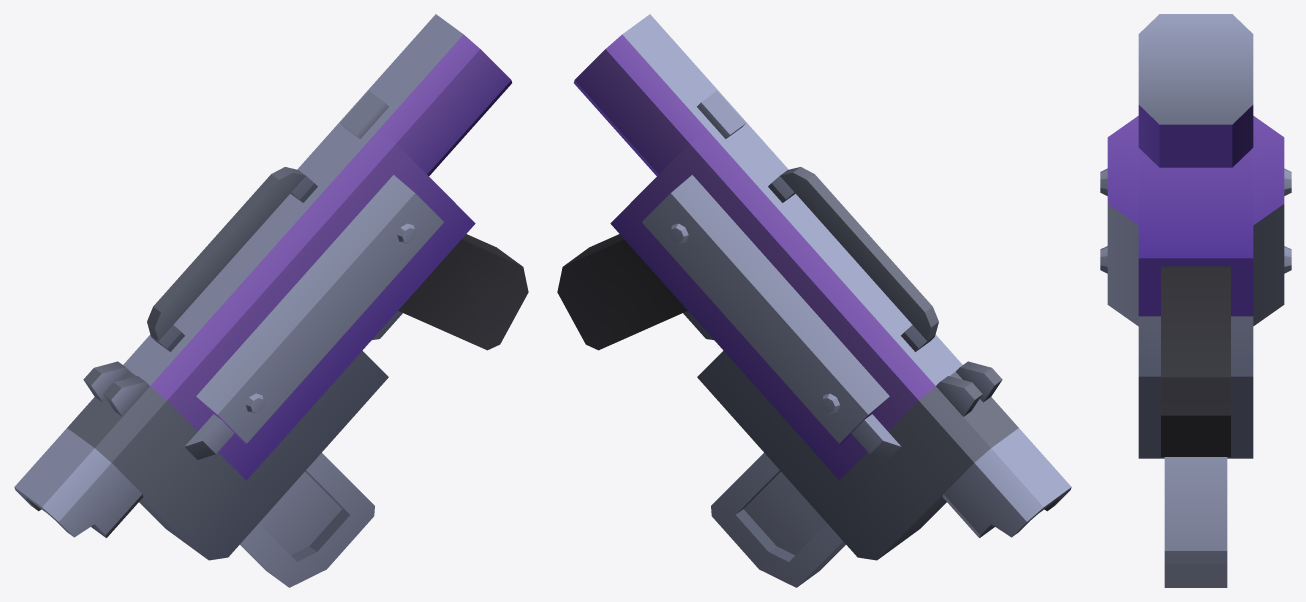
Rendered from blaster-a.glb.
The picture shows the model from 3 angles, left to right: view 1: azimuth 30°, elevation 25°; view 2: azimuth 150°, elevation 25°; view 3: azimuth 270°, elevation 25°; orthographic projection. The views are drawn at different scales.
Parts seen in each view (by area): view 1: geometry_0; view 2: geometry_0; view 3: geometry_0.
Boxes of the visible parts, <box> form: geometry_0: <box>14,14,528,587</box>; geometry_0: <box>557,14,1071,587</box>; geometry_0: <box>1100,14,1291,587</box>.
Size of the model in its own units: 1.29 by 1.3 by 0.3342.
